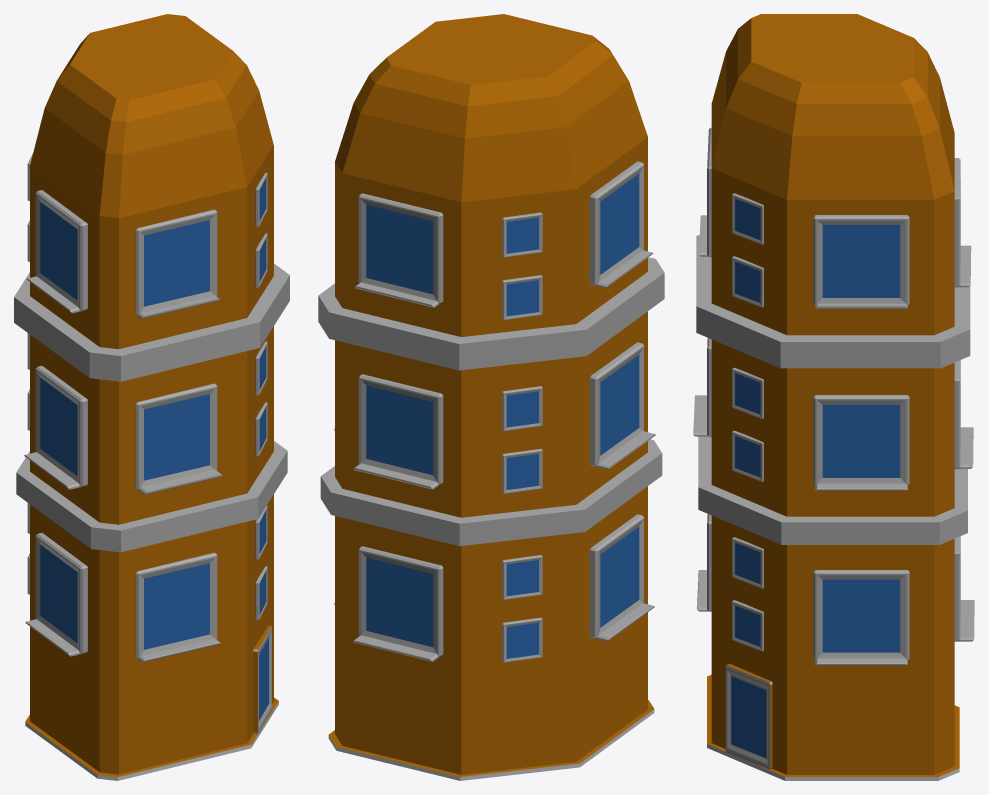
Rendered from ORANGE SMALL TOWER.001_COLOR.011.glb.
3 views of the same model, side by side, from view 1: azimuth 30°, elevation 25°; view 2: azimuth 150°, elevation 25°; view 3: azimuth 270°, elevation 25° (orthographic). The views are drawn at different scales.
Visible parts, largest first — view 1: ORANGE SMALL TOWER.001_COLOR.011_0; view 2: ORANGE SMALL TOWER.001_COLOR.011_0; view 3: ORANGE SMALL TOWER.001_COLOR.011_0.
Boxes of the visible parts, x1=… form: ORANGE SMALL TOWER.001_COLOR.011_0: x1=14, y1=14, x2=289, y2=780; ORANGE SMALL TOWER.001_COLOR.011_0: x1=318, y1=14, x2=664, y2=780; ORANGE SMALL TOWER.001_COLOR.011_0: x1=693, y1=14, x2=974, y2=780.
Bounding box in the file's own units: 1.37 × 3.63 × 1.36.
Materials: 1 (1 with a texture image).
